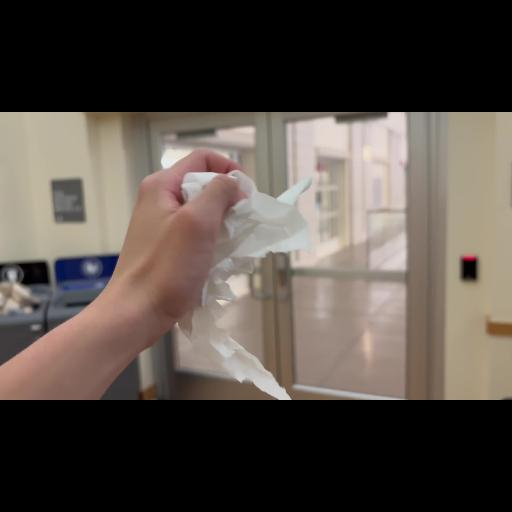napkin: (161, 158, 315, 400)
